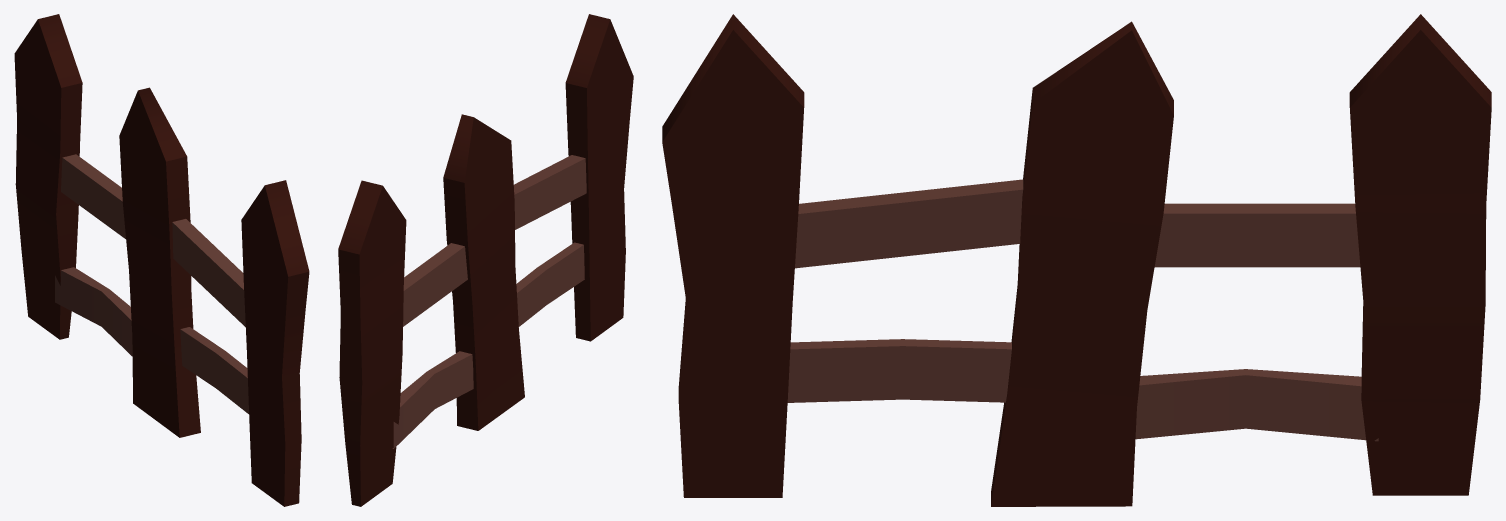
File: Fence1.fbx
The picture shows the model from 3 angles, left to right: view 1: azimuth 30°, elevation 25°; view 2: azimuth 150°, elevation 25°; view 3: azimuth 270°, elevation 25°; orthographic projection. The views are drawn at different scales.
Visible parts, largest first — view 1: Fence1; view 2: Fence1; view 3: Fence1.
Part boxes in pixels (x1,y1,x2,y2): Fence1: (14,14,309,506); Fence1: (338,14,633,506); Fence1: (662,14,1491,506).
Bounding box in the file's own units: 9.14 × 121 × 191.
